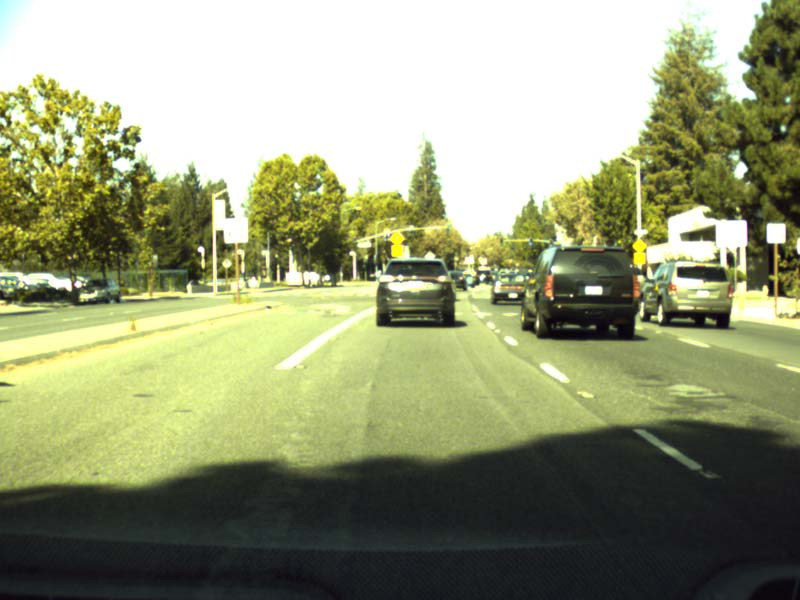Green: (528, 237, 532, 246), (499, 238, 502, 246)
